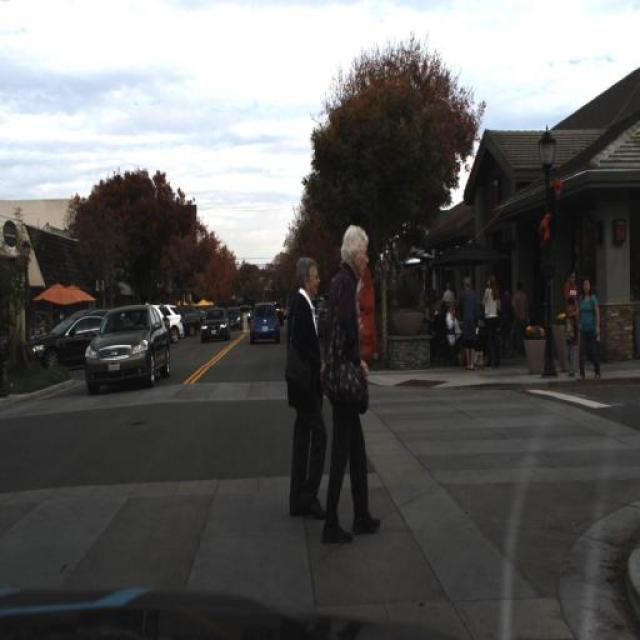car: (82, 302, 169, 386), (32, 309, 106, 371), (248, 298, 283, 348), (198, 303, 230, 342)
trafficLight: (311, 219, 387, 566), (283, 249, 327, 543), (456, 274, 486, 377), (575, 277, 603, 382), (481, 272, 504, 368), (564, 266, 584, 362), (442, 300, 472, 364), (510, 277, 530, 359), (560, 296, 579, 378), (499, 282, 513, 358)
